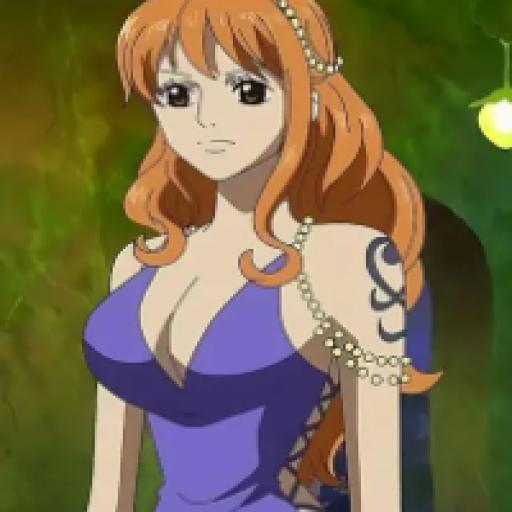Nami: (60, 2, 457, 512)
